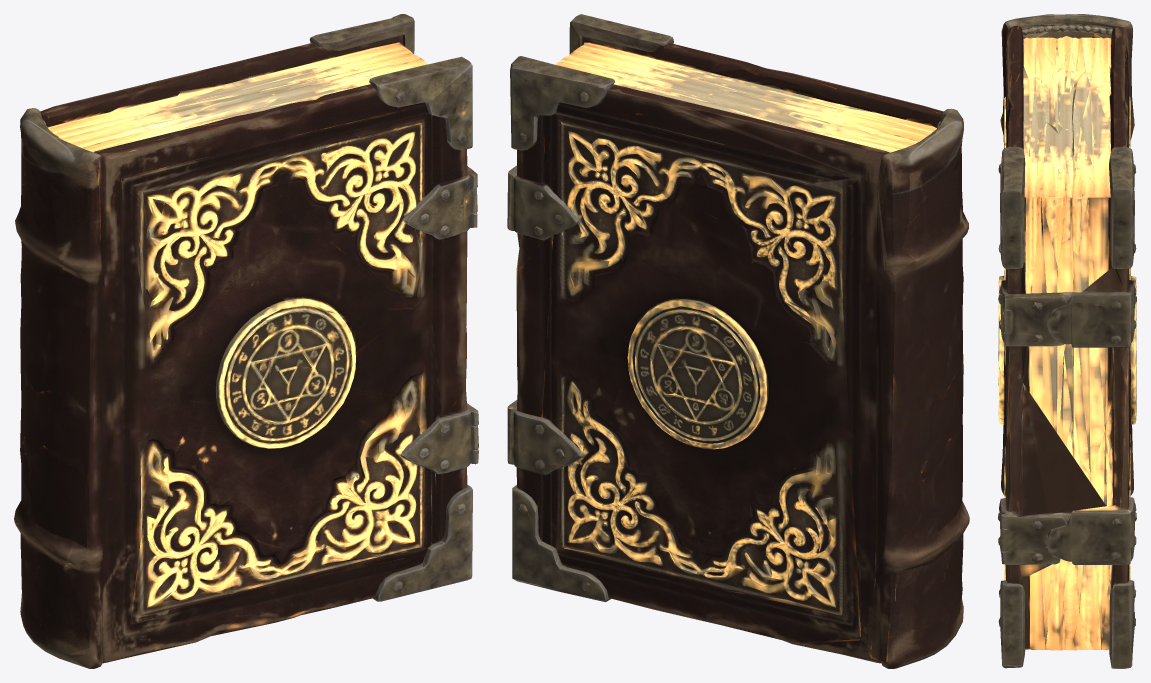
File: sp_m_tome.glb
The picture shows the model from 3 angles, left to right: view 1: azimuth 30°, elevation 25°; view 2: azimuth 150°, elevation 25°; view 3: azimuth 270°, elevation 25°; orthographic projection. The views are drawn at different scales.
Visible parts, largest first — view 1: Mesh_0; view 2: Mesh_0; view 3: Mesh_0.
Part boxes in pixels (box(x1,y1,x2,y2)): Mesh_0: box(14, 14, 478, 668); Mesh_0: box(507, 14, 969, 668); Mesh_0: box(998, 14, 1136, 668).
Size of the model in its own units: 1.58 by 1.89 by 0.4945.
Materials: 1 (1 with a texture image).
